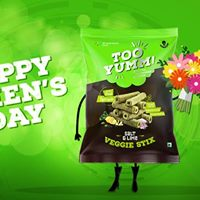plastic: (82, 29, 181, 164)
tooyumm: (105, 46, 159, 74)
wrapper: (80, 27, 179, 161)
